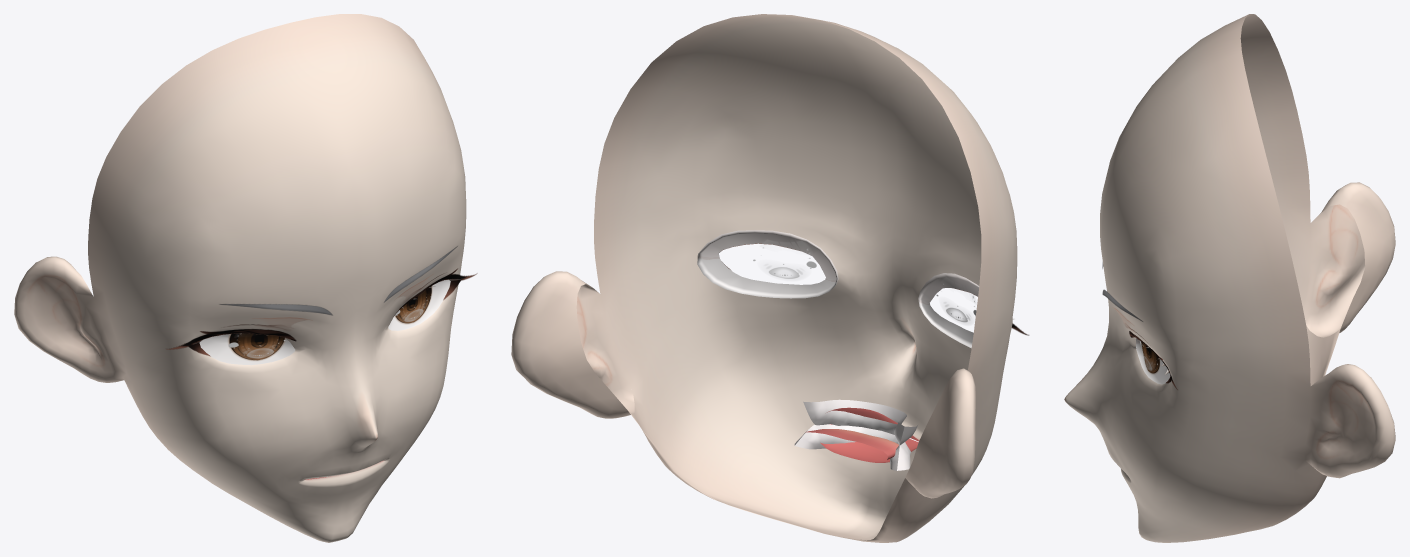
3 views of the same model, side by side, from view 1: azimuth 30°, elevation 25°; view 2: azimuth 150°, elevation 25°; view 3: azimuth 270°, elevation 25° (orthographic). The views are drawn at different scales.
Parts seen in each view (by area): view 1: part; view 2: part; view 3: part.
Part boxes in pixels (x1,y1,x2,y2): part: (14, 14, 477, 542); part: (511, 14, 1029, 542); part: (1064, 14, 1395, 542).
Bounding box in the file's own units: 0.202 × 0.2283 × 0.1374.
Materials: 8 (8 with a texture image).
